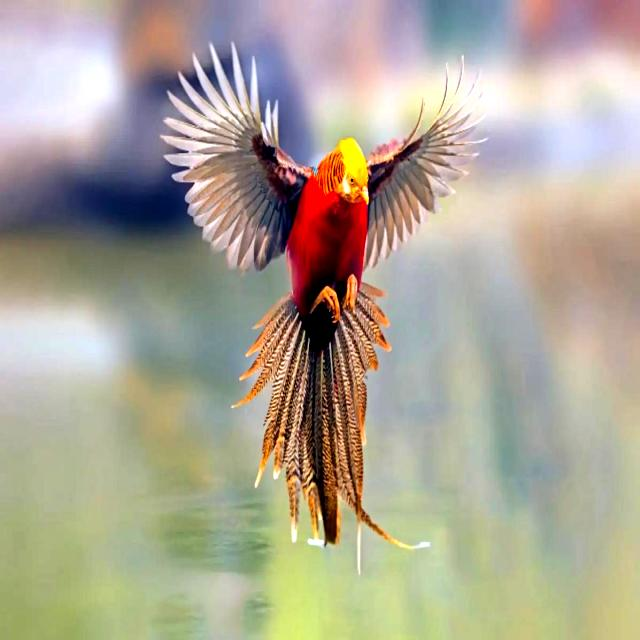Chrysolophus pictus feather: (232, 283, 430, 576)
